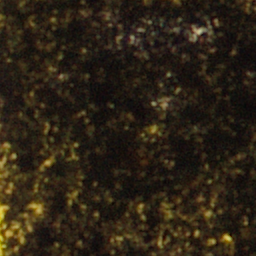cement_matrix: (0, 0, 255, 255)
cracks: (0, 203, 4, 255)
